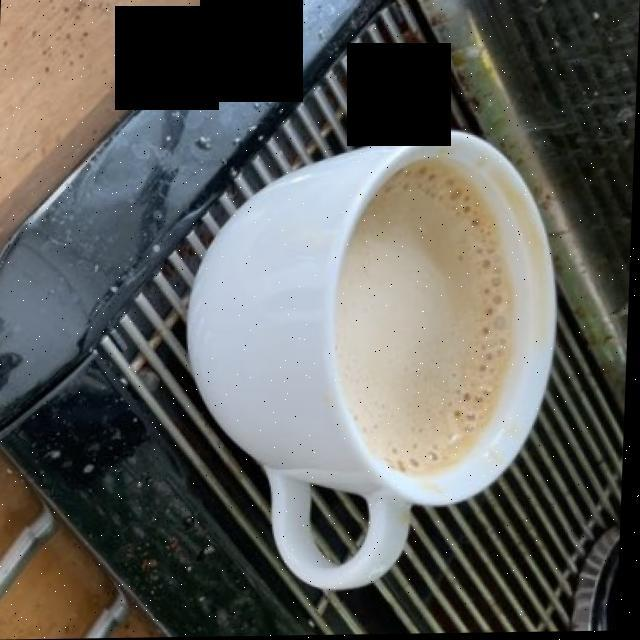espresso: (341, 173, 517, 476)
